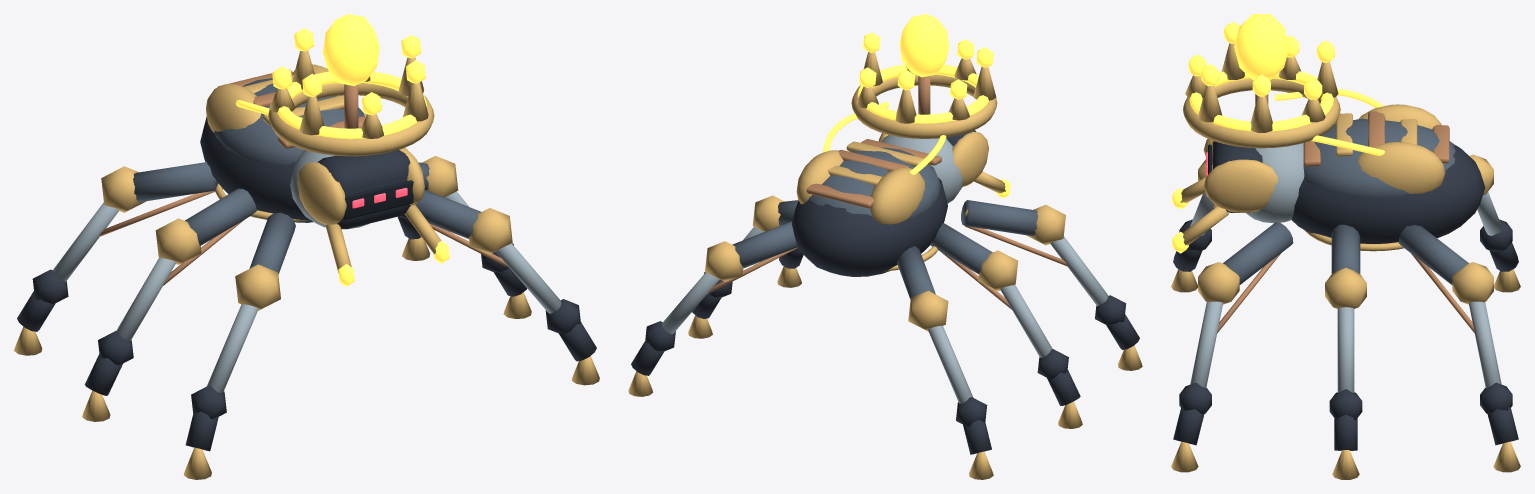
File: souverain.glb
3 renders of one model, left to right at view 1: azimuth 30°, elevation 25°; view 2: azimuth 150°, elevation 25°; view 3: azimuth 270°, elevation 25°, orthographic. The views are drawn at different scales.
Visible parts, largest first — view 1: Central armored abdomen, Crown iron rim, Black gold helmet, Imperial top reactor, Upper royal carapace, Leg -1-2 upper armor, Golden cheek guard -1, ANIM_Crown corona, Leg -1-1 upper armor, Reactor pod -1, Leg 1-0 upper armor, Leg -1-0 upper armor (+28 smaller); view 2: Central armored abdomen, Crown iron rim, Upper royal carapace, Imperial top reactor, Reactor pod -1, Leg -1-0 upper armor, Head armored cradle, Leg 1-2 upper armor, ANIM_Crown corona, Leg -1-1 upper armor, Golden cheek guard -1, Leg -1-2 piston (+22 smaller); view 3: Central armored abdomen, Upper royal carapace, Crown iron rim, Reactor pod 1, Golden cheek guard 1, Imperial top reactor, Head armored cradle, Leg 1-0 upper armor, Leg 1-2 upper armor, ANIM_Crown corona, Leg 1-1 piston, Leg 1-0 piston (+39 smaller).
Boxes of the visible parts, <box> form: Central armored abdomen: <box>200,116,312,222</box>; Crown iron rim: <box>268,83,434,156</box>; Black gold helmet: <box>317,149,410,228</box>; Imperial top reactor: <box>323,14,379,86</box>; Upper royal carapace: <box>214,78,364,164</box>; Leg -1-2 upper armor: <box>133,162,217,202</box>; Golden cheek guard -1: <box>297,162,346,224</box>; ANIM_Crown corona: <box>277,71,426,138</box>; Leg -1-1 upper armor: <box>185,188,256,245</box>; Reactor pod -1: <box>206,84,260,132</box>; Leg 1-0 upper armor: <box>415,189,480,238</box>; Leg -1-0 upper armor: <box>249,212,295,274</box>; Central armored abdomen: <box>791,177,947,276</box>; Crown iron rim: <box>851,74,997,138</box>; Upper royal carapace: <box>807,147,940,217</box>; Imperial top reactor: <box>899,14,949,77</box>; Reactor pod -1: <box>870,168,924,224</box>; Leg -1-0 upper armor: <box>961,200,1038,236</box>; Head armored cradle: <box>881,135,962,203</box>; Leg 1-2 upper armor: <box>732,221,797,268</box>; ANIM_Crown corona: <box>857,64,988,123</box>; Leg -1-1 upper armor: <box>930,222,992,273</box>; Golden cheek guard -1: <box>952,131,988,186</box>; Leg -1-2 piston: <box>928,325,973,403</box>; Central armored abdomen: <box>1292,144,1485,243</box>; Upper royal carapace: <box>1303,118,1455,197</box>; Crown iron rim: <box>1183,78,1340,148</box>; Reactor pod 1: <box>1358,142,1445,193</box>; Golden cheek guard 1: <box>1203,159,1277,212</box>; Imperial top reactor: <box>1234,14,1289,80</box>; Head armored cradle: <box>1246,143,1304,223</box>; Leg 1-0 upper armor: <box>1223,222,1293,284</box>; Leg 1-2 upper armor: <box>1398,225,1468,284</box>; ANIM_Crown corona: <box>1189,71,1333,131</box>; Leg 1-1 piston: <box>1337,307,1354,392</box>; Leg 1-0 piston: <box>1190,301,1222,388</box>.
Bounding box in the file's own units: 3.19 × 2.61 × 2.29.
